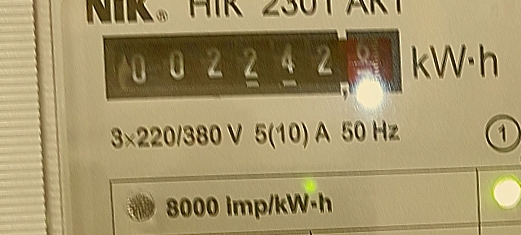0: (126, 51, 147, 85), (164, 47, 184, 80)
2: (202, 45, 223, 78), (239, 45, 258, 79), (313, 43, 331, 76)
4: (277, 41, 294, 74)
6: (353, 35, 369, 63)
screen: (90, 11, 411, 116)
